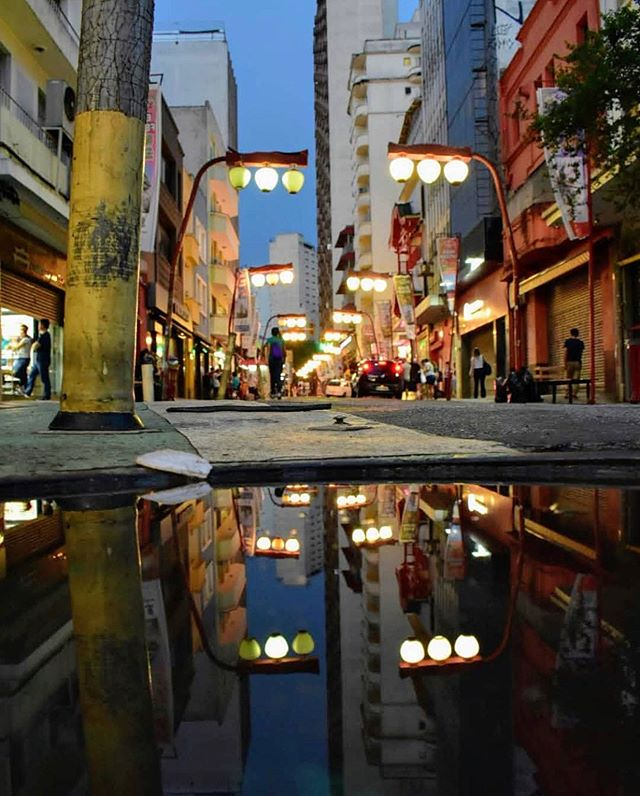building: (496, 1, 640, 401), (148, 16, 249, 397), (417, 12, 499, 412), (318, 1, 403, 375), (355, 29, 412, 359), (267, 225, 322, 345)
